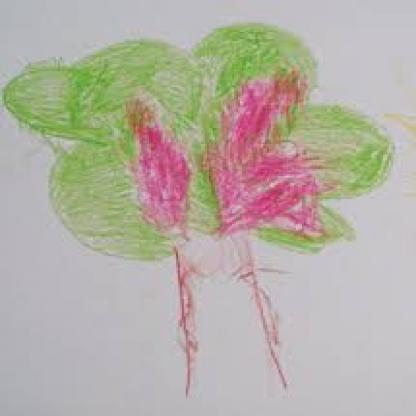crown_cloud: (1, 18, 399, 257)
trunk_straight: (166, 258, 288, 362)
